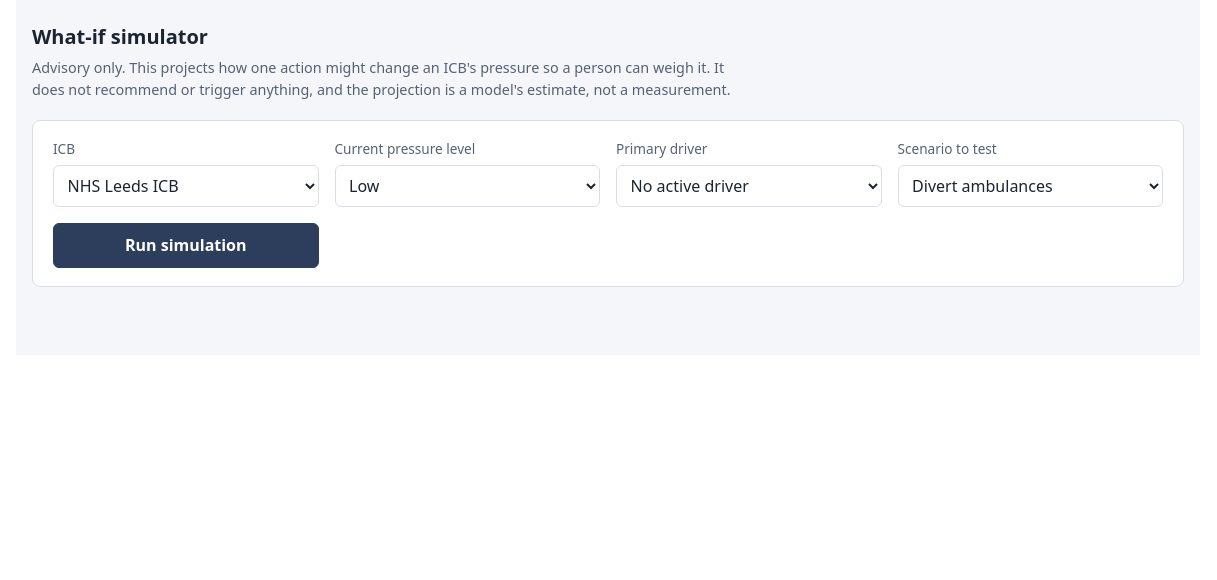
Test case: SimulatorPage › happy path: submits the chosen inputs and renders the projection with its level as text
Select "Open surge beds" in the dropdown labelled "Scenario to test" at [1030, 186], box 898,165 -> 1163,207
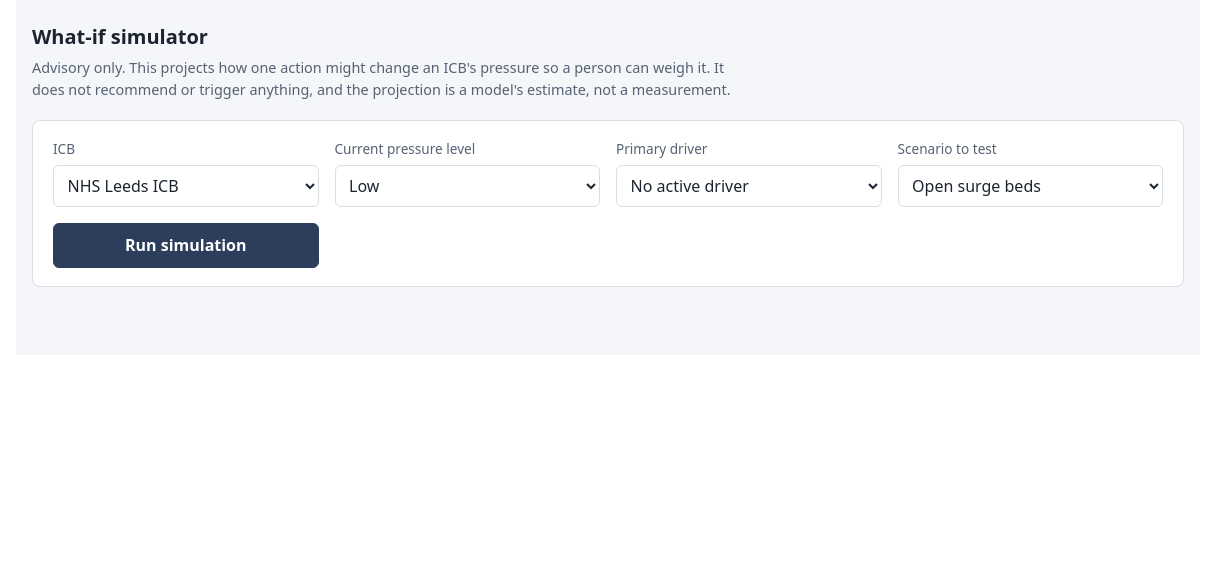
Click the button "Run simulation" at [186, 245], box 53,223 -> 318,268
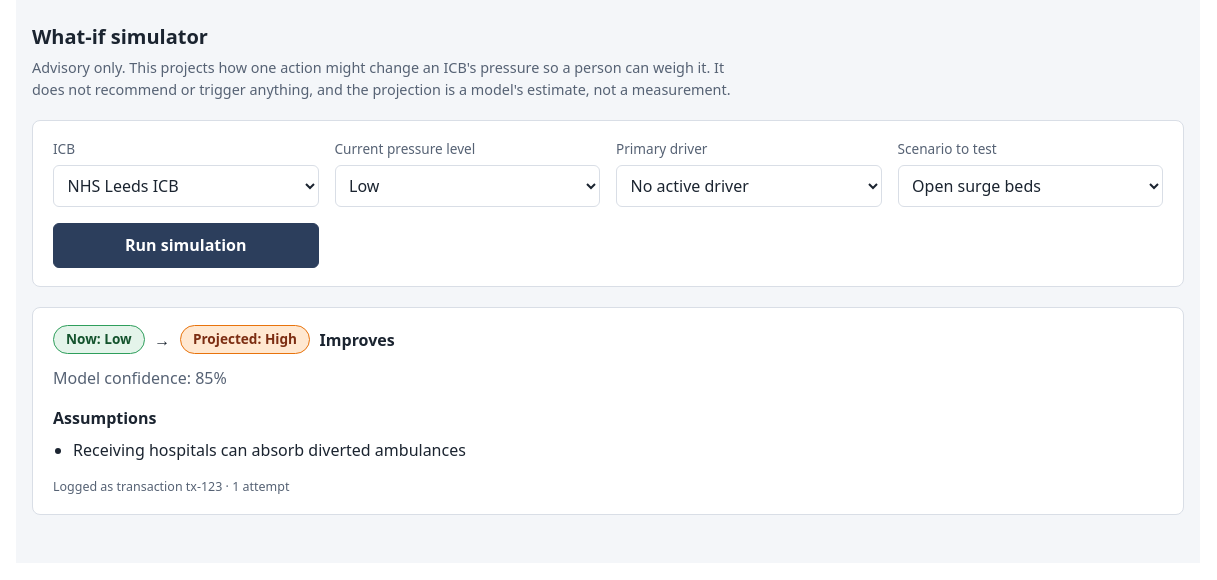
Check: the text with test id "projected-level" reads "Projected: High", box 180,325 -> 310,354
Check: the text with test id "pressure-change" reads "Improves", box 320,328 -> 395,350
Check: the text "Model confidence: 85%" is shown, box 53,367 -> 227,389
